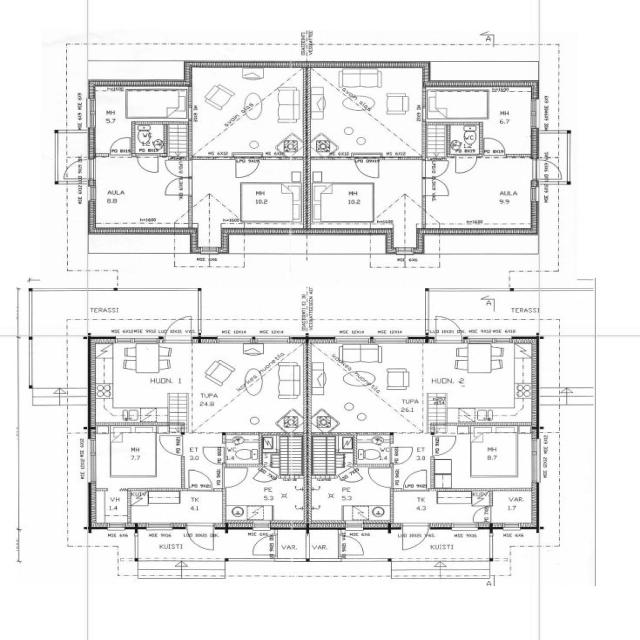door: (185, 522, 216, 552), (163, 314, 195, 340), (401, 523, 430, 551), (432, 315, 464, 340), (352, 156, 383, 180), (185, 467, 215, 491), (233, 156, 263, 180), (431, 433, 458, 458), (366, 466, 394, 490), (157, 433, 185, 457), (161, 176, 191, 198), (221, 466, 250, 488), (535, 158, 564, 180), (340, 534, 367, 556), (403, 468, 430, 490), (425, 176, 452, 198), (163, 156, 190, 178), (250, 534, 274, 558), (135, 154, 161, 176), (452, 154, 478, 176), (64, 158, 90, 180), (482, 135, 507, 156), (108, 135, 133, 156), (425, 158, 451, 178), (200, 445, 225, 465), (391, 446, 415, 465), (175, 210, 192, 226), (250, 522, 272, 533)
window: (486, 89, 538, 157), (528, 436, 545, 486), (83, 436, 99, 486), (465, 334, 513, 345), (252, 333, 294, 345), (528, 96, 542, 131), (530, 168, 544, 203), (115, 334, 160, 344), (215, 334, 258, 344), (372, 334, 410, 345), (332, 334, 373, 344), (84, 95, 96, 128), (142, 521, 174, 531), (486, 533, 496, 560), (85, 184, 98, 204), (528, 183, 540, 204), (450, 522, 478, 531), (344, 521, 366, 531), (250, 522, 272, 532), (310, 555, 338, 562), (106, 522, 127, 531), (501, 523, 523, 531), (281, 556, 308, 562)
zone: (190, 341, 305, 433), (307, 68, 424, 155), (309, 343, 423, 432), (193, 68, 304, 154), (421, 341, 534, 422), (89, 340, 188, 423), (428, 158, 538, 232), (90, 158, 190, 232), (434, 424, 538, 486), (89, 425, 183, 491), (308, 470, 392, 525), (379, 156, 424, 254), (224, 474, 309, 524), (308, 171, 376, 229), (483, 89, 537, 157), (238, 179, 304, 227), (89, 92, 128, 154), (125, 88, 189, 122), (425, 89, 490, 121), (489, 488, 538, 528), (262, 434, 307, 476), (310, 434, 354, 472), (223, 432, 263, 467), (355, 434, 393, 466), (132, 121, 166, 155), (448, 122, 482, 156), (275, 528, 309, 561), (308, 528, 342, 560), (425, 122, 449, 158)
